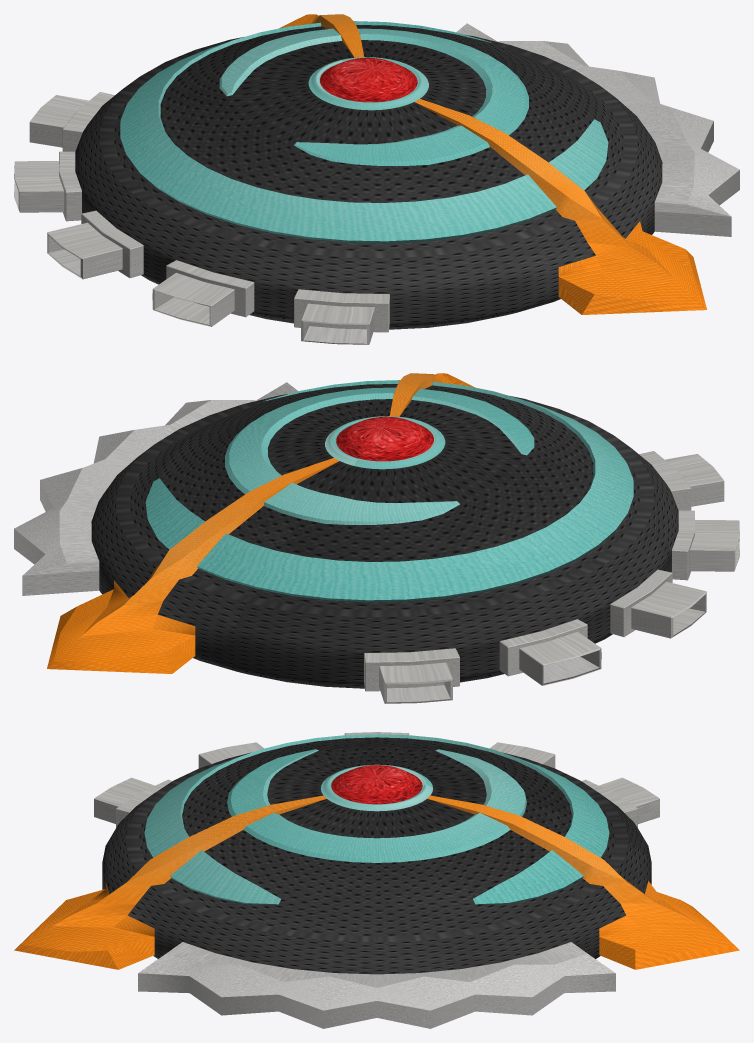
The model's file is Boss_02_Ragazzino.fbx.
3 renders of one model, top to bottom at view 1: azimuth 30°, elevation 25°; view 2: azimuth 150°, elevation 25°; view 3: azimuth 270°, elevation 25°, orthographic. The views are drawn at different scales.
Parts seen in each view (by area): view 1: Boss2; view 2: Boss2; view 3: Boss2.
Boxes of the visible parts, <box> form: Boss2: <box>14,14,739,344</box>; Boss2: <box>14,373,739,703</box>; Boss2: <box>14,732,739,1028</box>.
Bounding box in the file's own units: 2.96 × 0.7559 × 3.31.
1 material, 1 textured.
